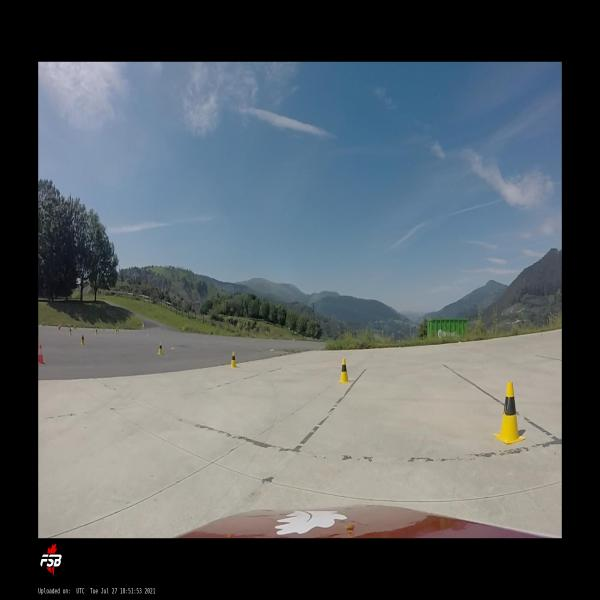orange_cone: (39, 344, 46, 364)
yellow_cone: (494, 381, 526, 444), (338, 359, 350, 383), (230, 351, 237, 368), (157, 342, 164, 355), (81, 334, 85, 345), (69, 327, 72, 335), (96, 328, 98, 335), (116, 328, 118, 334)
